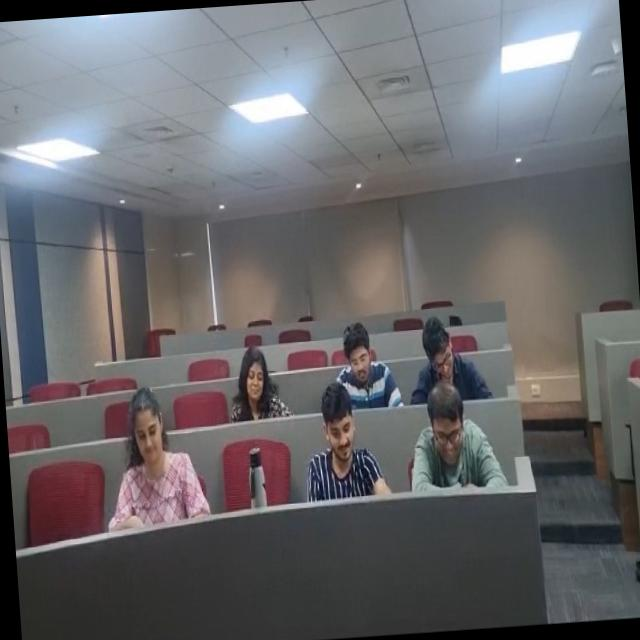cheating: (400, 384, 503, 500), (220, 338, 296, 426)
non-cheating: (102, 391, 190, 534), (300, 394, 402, 498), (408, 314, 477, 404), (324, 316, 394, 402)
